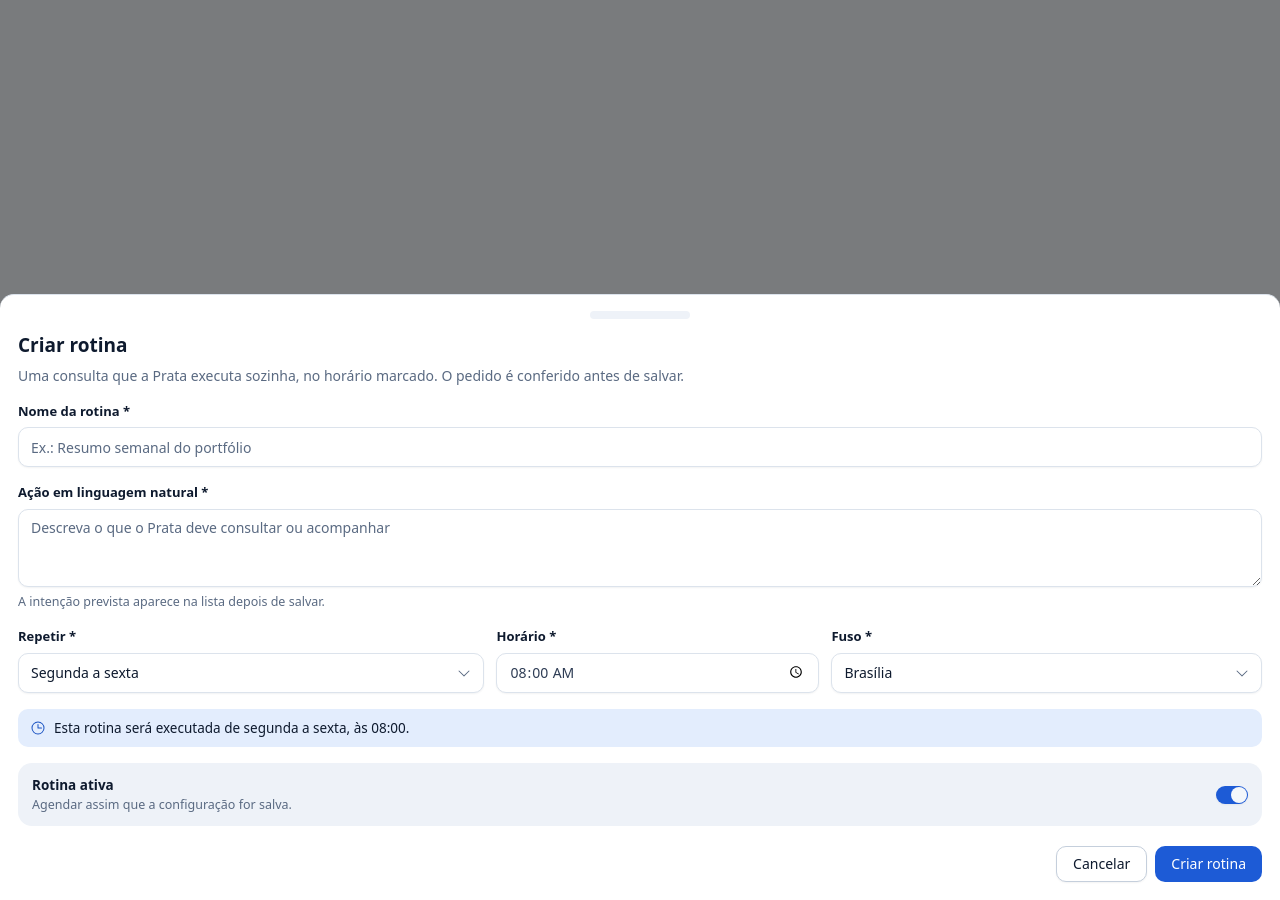
it: FormularioRotina › valida nome com menos de 3 caracteres
This screenshot has width=1280, height=900.
Step 1. Type "ab" into the field labelled "Nome da rotina *" → (640, 447), box [18,427,1262,467]
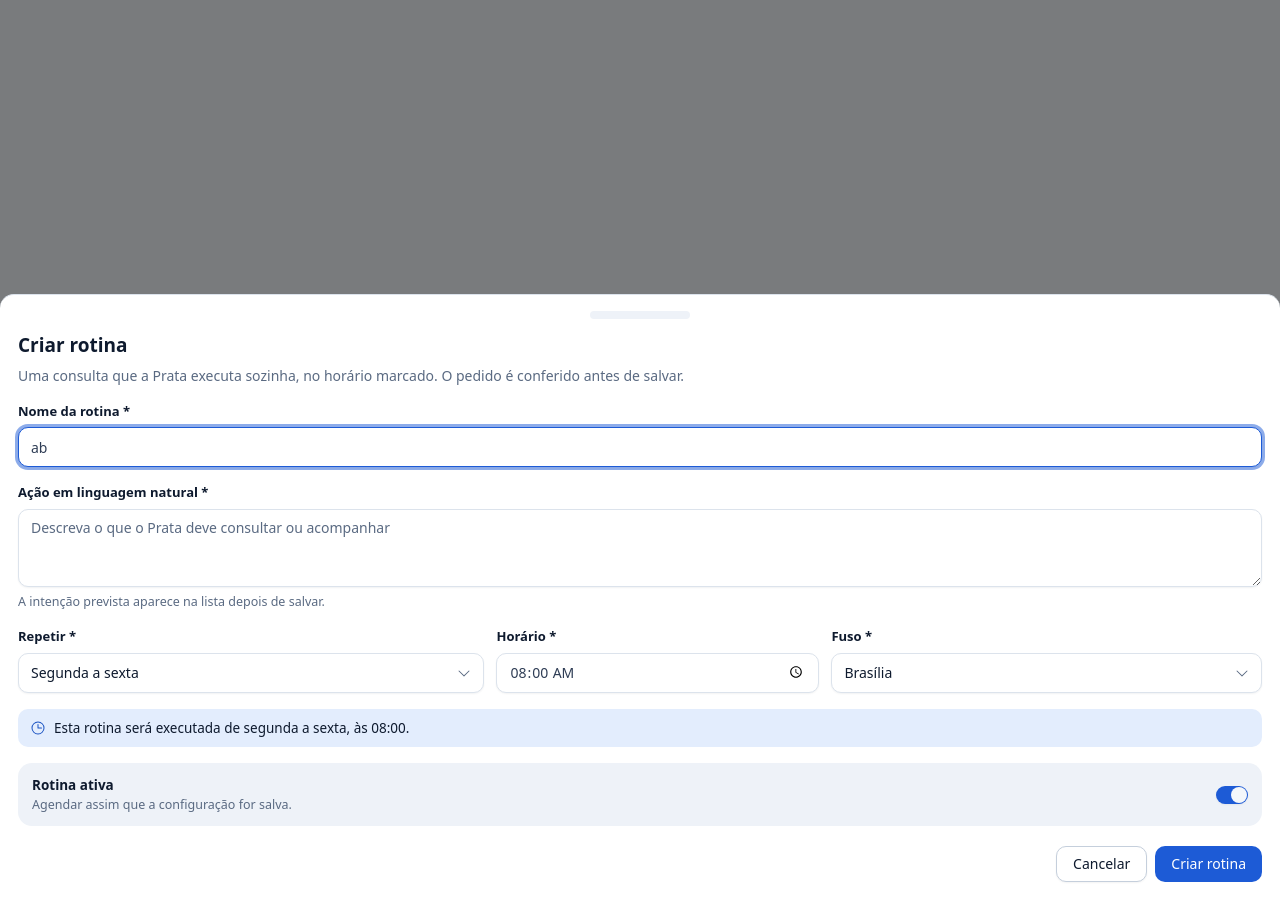
Step 2. Click the button "Criar rotina" → (1209, 864), box [1155,846,1262,882]
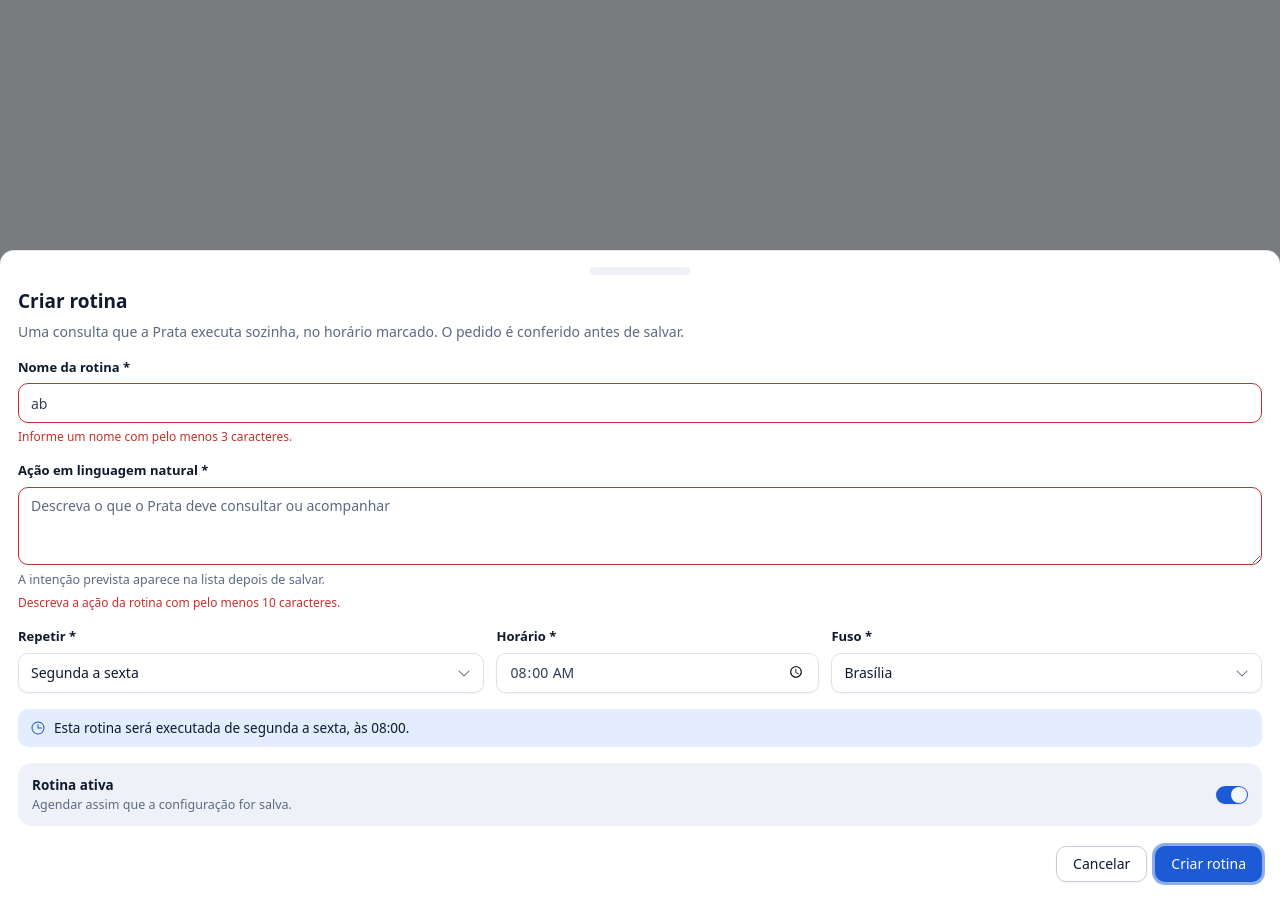
Expected: the text "Informe um nome com pelo menos 3 caracteres." is shown, [18,428,292,445]
